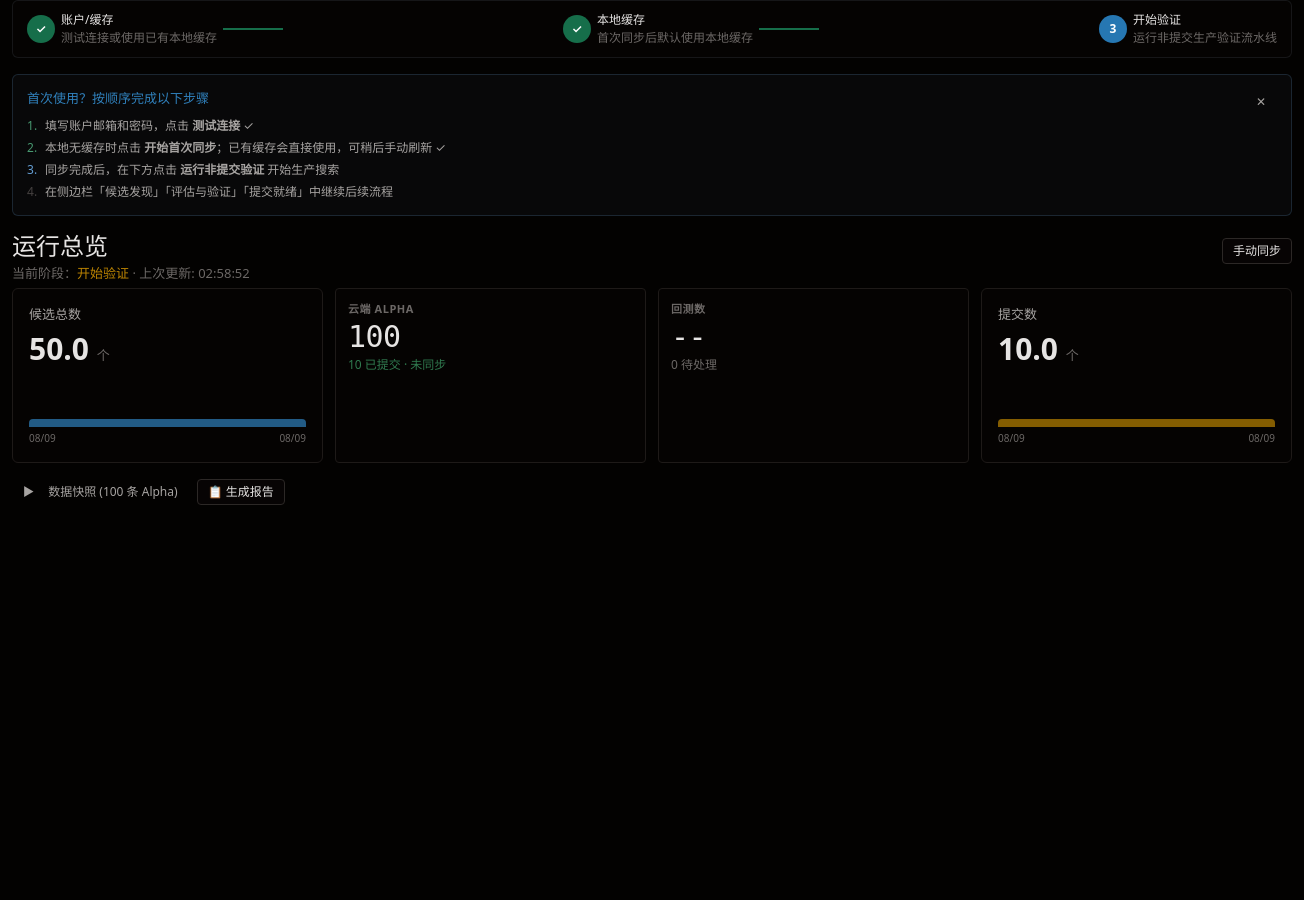
Dashboard › expands and collapses snapshot panel
Check: the heading "运行总览" is shown, box x1=12 y1=228 x2=108 y2=262
Click the button "▶ 数据快照 (100 条 Alpha)" at x=100, y=492, box x1=12 y1=479 x2=189 y2=505
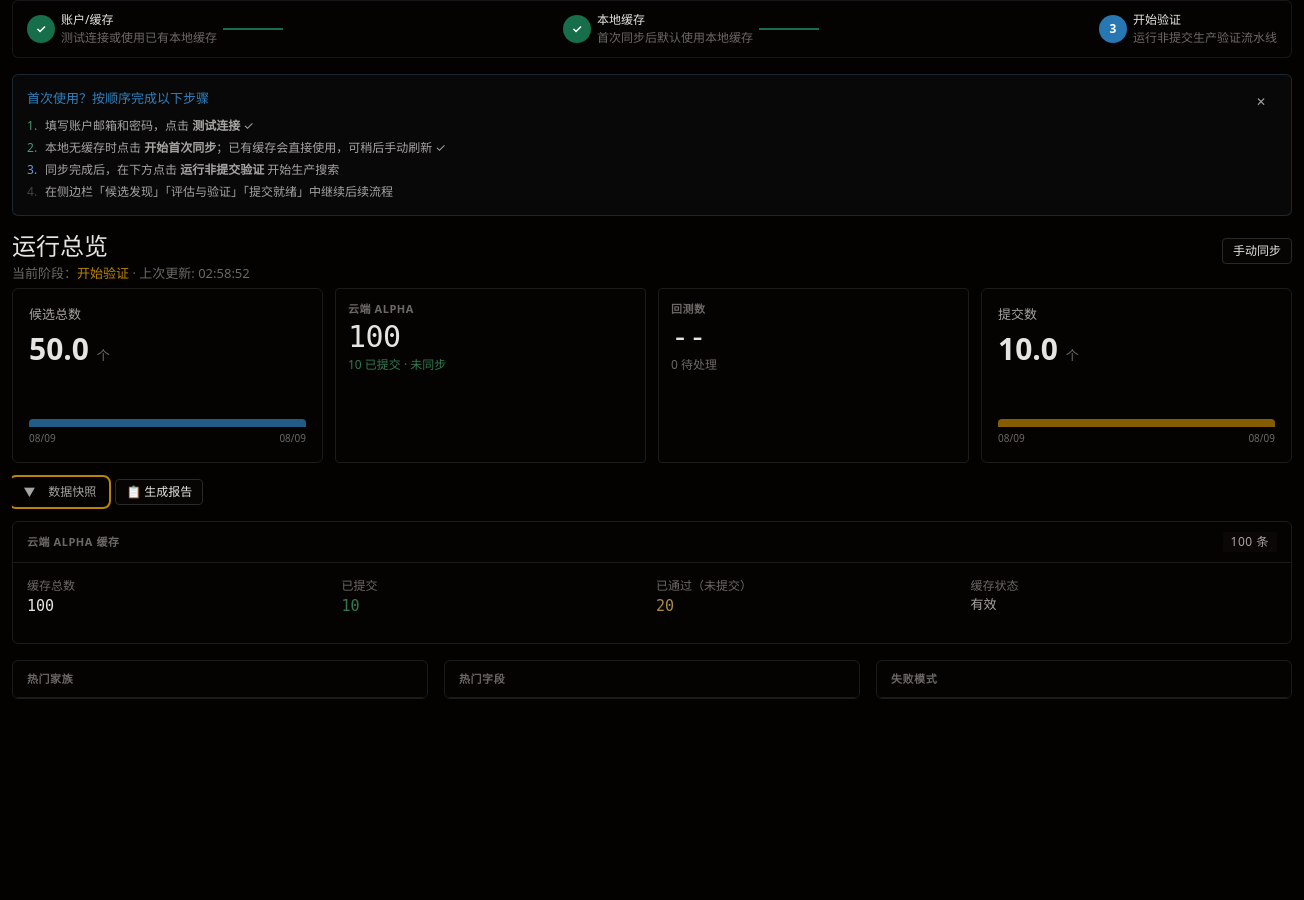
Check: the button "▶ 数据快照" is expanded
Check: the text "热门家族" is shown, box x1=27 y1=671 x2=73 y2=687
Check: the text "热门字段" is shown, box x1=459 y1=671 x2=505 y2=687
Click the button "▶ 数据快照" at x=60, y=492, box x1=12 y1=479 x2=107 y2=505
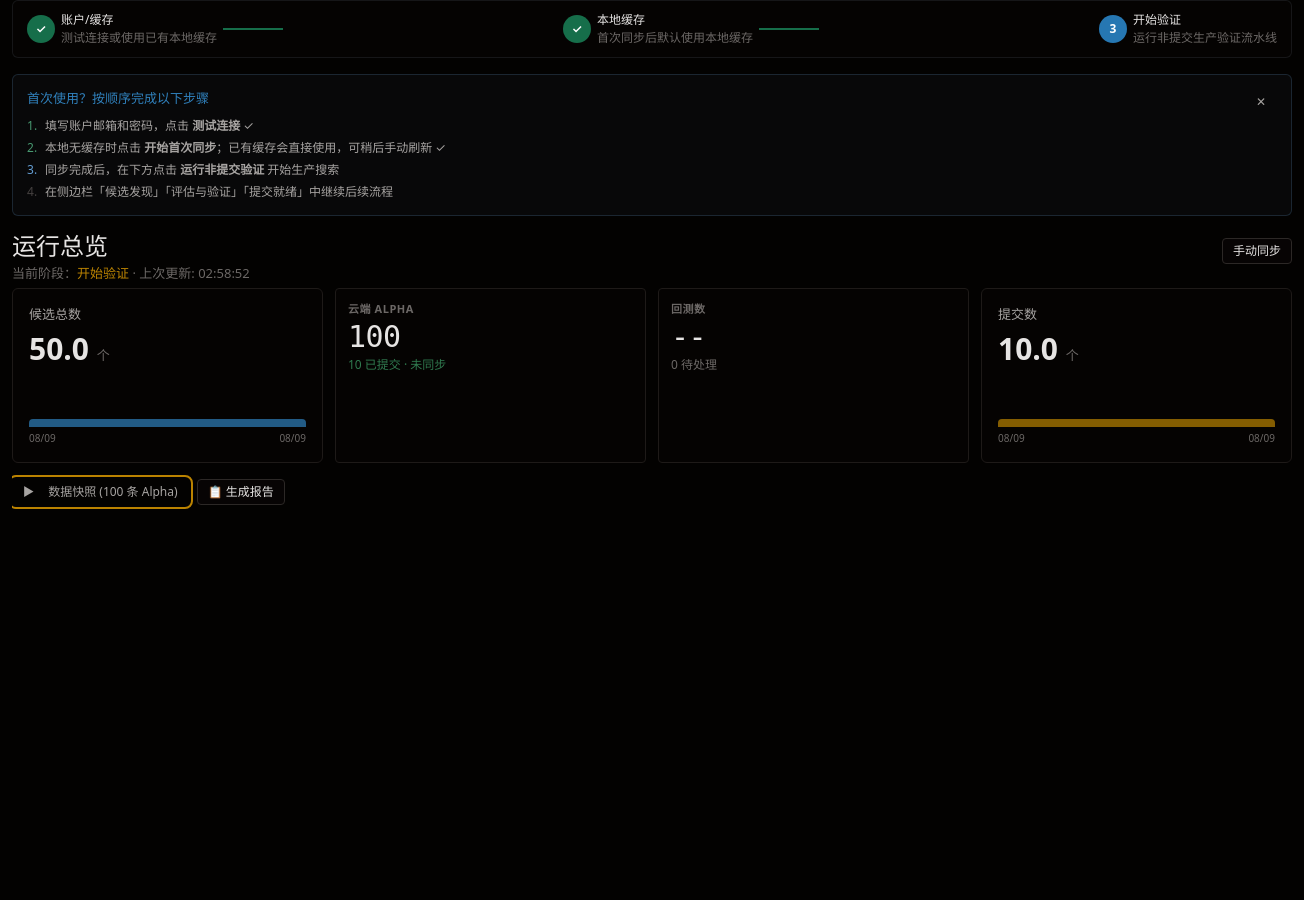
Check: the button "▶ 数据快照 (100 条 Alpha)" is collapsed, box x1=12 y1=479 x2=189 y2=505
